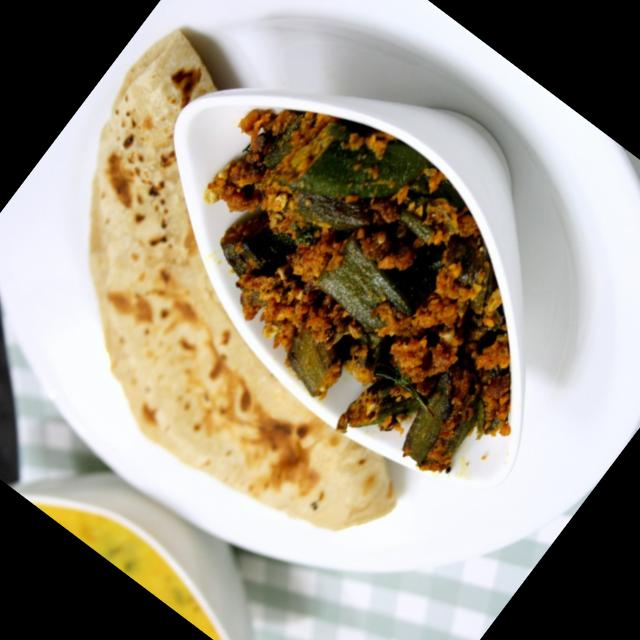BhindiMasala: (127, 55, 612, 514)
